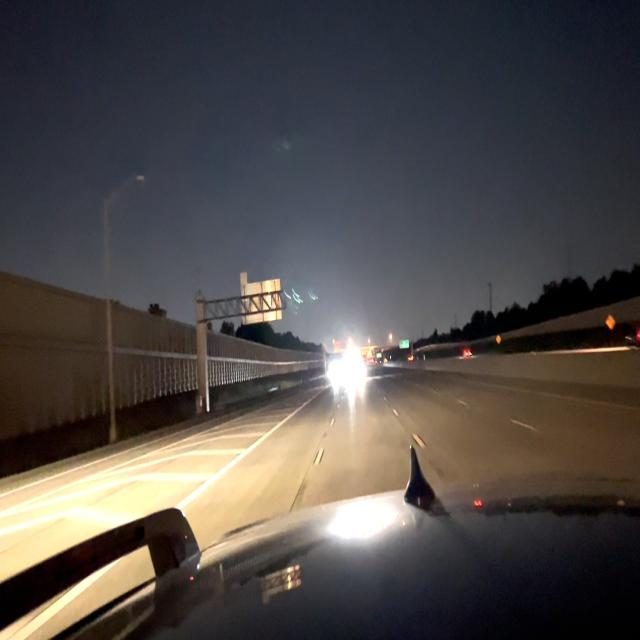back-of-sign: (237, 280, 281, 323), (240, 270, 247, 286)
